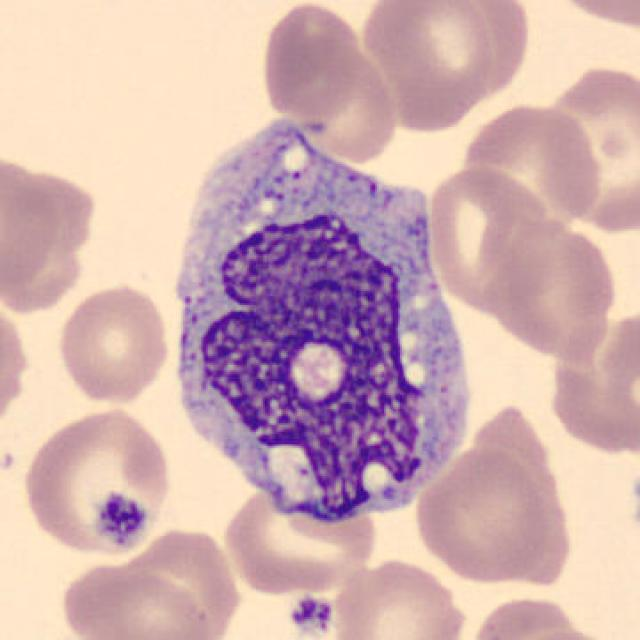Monocyte: (158, 115, 476, 541)
Platelets: (91, 490, 151, 550), (288, 592, 336, 638)
RBC: (20, 404, 176, 557), (354, 0, 528, 132), (411, 443, 564, 587), (484, 215, 620, 363), (459, 100, 606, 231), (219, 482, 382, 600), (425, 162, 546, 312), (535, 60, 638, 233), (54, 280, 172, 408), (546, 306, 640, 458), (55, 559, 222, 640), (257, 0, 364, 123), (329, 555, 469, 640), (2, 152, 64, 305), (467, 592, 601, 640), (0, 294, 34, 444), (544, 0, 640, 32), (502, 626, 628, 640)
